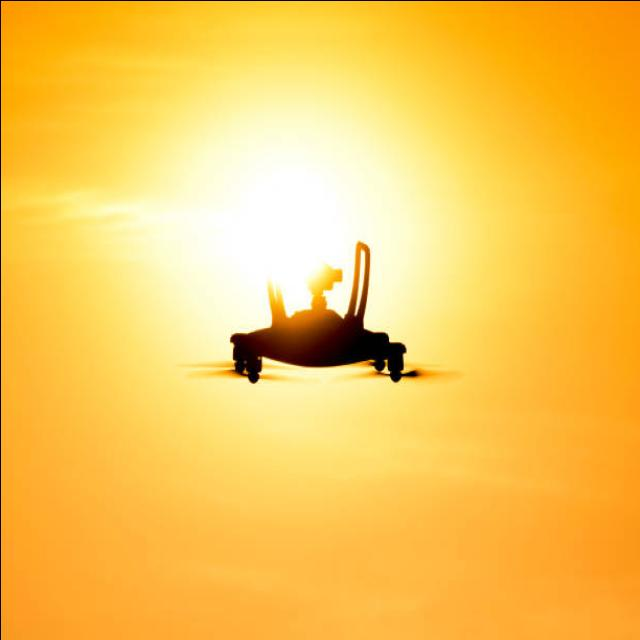drone: (179, 240, 461, 386)
